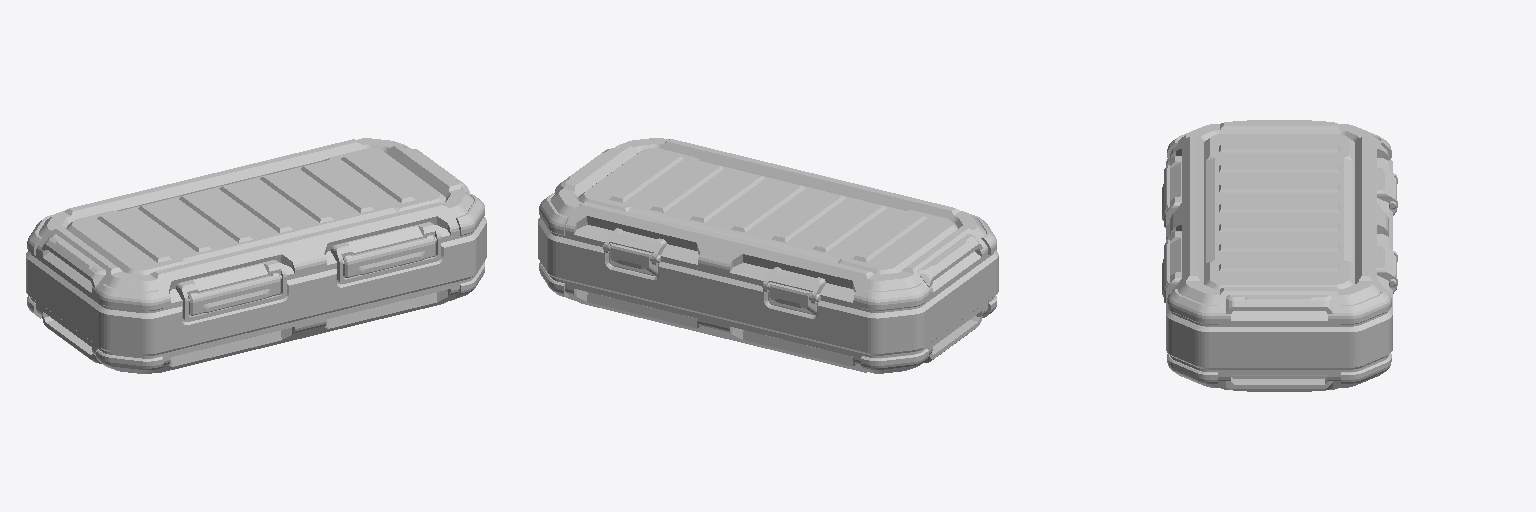
The model's file is Sci-fi_Container_Box.obj.
3 renders of one model, left to right at view 1: azimuth 30°, elevation 25°; view 2: azimuth 150°, elevation 25°; view 3: azimuth 270°, elevation 25°, orthographic.
Visible parts, largest first — view 1: Upper_box_Куб.011, Lower_box_Куб.008; view 2: Upper_box_Куб.011, Lower_box_Куб.008; view 3: Upper_box_Куб.011, Lower_box_Куб.008.
Part boxes in pixels (x1,y1,x2,y2): Upper_box_Куб.011: (27,138,484,321); Lower_box_Куб.008: (26,217,486,373); Upper_box_Куб.011: (539,138,996,312); Lower_box_Куб.008: (538,217,998,373); Upper_box_Куб.011: (1162,120,1397,326); Lower_box_Куб.008: (1166,159,1396,391).
Bounding box in the file's own units: 4.08 × 1.01 × 2.15.